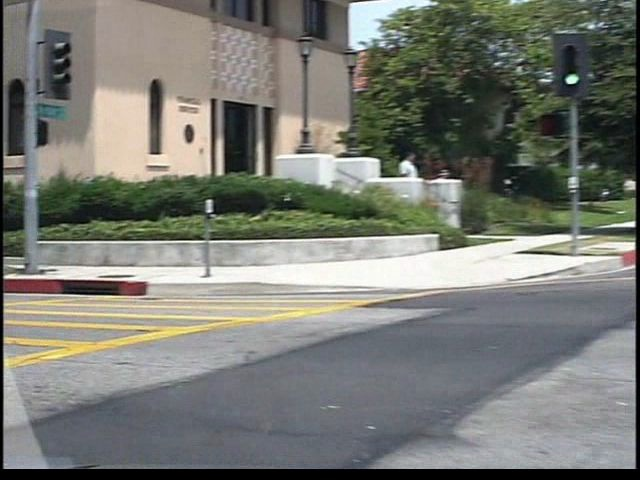person: (381, 148, 405, 222)
